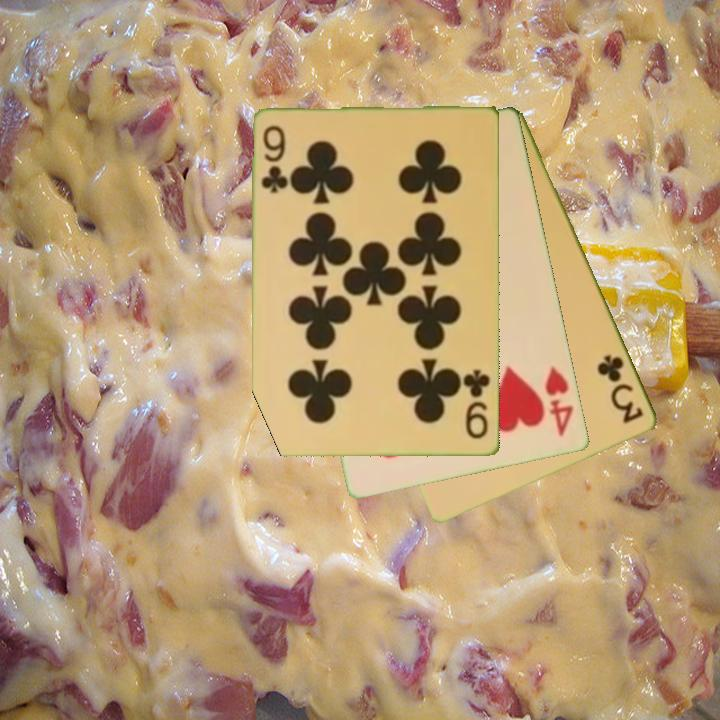3c: (594, 351, 647, 427)
4h: (542, 363, 577, 440)
9c: (461, 366, 493, 442), (258, 122, 290, 196)
